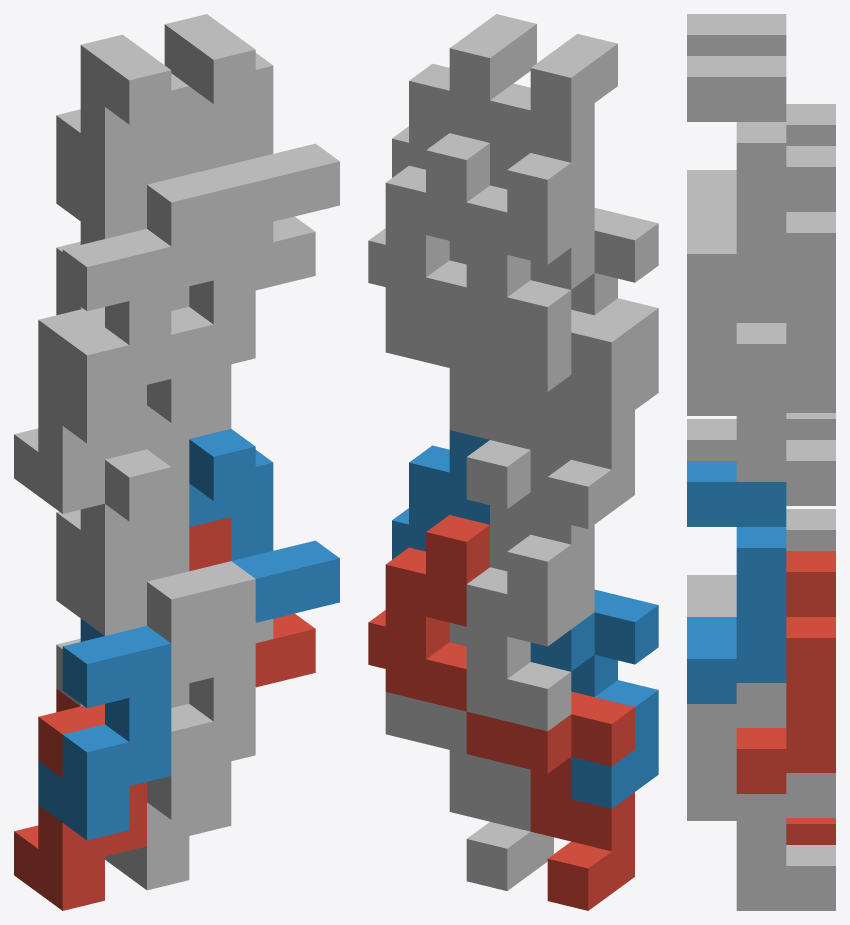
File: tiling.obj
3 renders of one model, left to right at view 1: azimuth 30°, elevation 25°; view 2: azimuth 150°, elevation 25°; view 3: azimuth 270°, elevation 25°, orthographic. The views are drawn at different scales.
Visible parts, largest first — view 1: copy_2_domain_4, copy_1_domain_4, copy_1_domain_2, copy_2_domain_2, copy_2_domain_8, copy_2_domain_6, copy_1_domain_6, copy_1_domain_8, copy_1_domain_3, copy_1_domain_1, copy_2_domain_3, copy_2_domain_1 (+4 smaller); view 2: copy_1_domain_1, copy_1_domain_3, copy_2_domain_3, copy_2_domain_1, copy_2_domain_5, copy_2_domain_7, copy_1_domain_4, copy_1_domain_2, copy_2_domain_4, copy_1_domain_5, copy_1_domain_7, copy_2_domain_8 (+4 smaller); view 3: copy_2_domain_8, copy_2_domain_6, copy_2_domain_5, copy_2_domain_7, copy_1_domain_5, copy_1_domain_7, copy_1_domain_6, copy_1_domain_8, copy_2_domain_4, copy_2_domain_2, copy_2_domain_1, copy_2_domain_3 (+2 smaller).
Boxes of the visible parts, bbox=[...] form: copy_2_domain_4: bbox=[80, 34, 255, 246]; copy_1_domain_4: bbox=[38, 222, 171, 443]; copy_1_domain_2: bbox=[38, 618, 171, 840]; copy_2_domain_2: bbox=[80, 449, 255, 643]; copy_2_domain_8: bbox=[164, 14, 339, 225]; copy_2_domain_6: bbox=[189, 429, 339, 622]; copy_1_domain_6: bbox=[147, 619, 273, 819]; copy_1_domain_8: bbox=[147, 222, 273, 422]; copy_1_domain_3: bbox=[14, 292, 146, 513]; copy_1_domain_1: bbox=[14, 689, 146, 910]; copy_2_domain_3: bbox=[56, 109, 189, 310]; copy_2_domain_1: bbox=[56, 509, 189, 707]; copy_1_domain_1: bbox=[466, 691, 634, 910]; copy_1_domain_3: bbox=[466, 309, 634, 528]; copy_2_domain_3: bbox=[466, 146, 594, 349]; copy_2_domain_1: bbox=[466, 527, 594, 731]; copy_2_domain_5: bbox=[368, 515, 489, 711]; copy_2_domain_7: bbox=[368, 133, 489, 329]; copy_1_domain_4: bbox=[530, 208, 658, 426]; copy_1_domain_2: bbox=[530, 589, 658, 808]; copy_2_domain_4: bbox=[490, 34, 617, 246]; copy_1_domain_5: bbox=[385, 692, 553, 890]; copy_1_domain_7: bbox=[385, 310, 530, 509]; copy_2_domain_8: bbox=[392, 14, 536, 177]; copy_2_domain_8: bbox=[687, 56, 786, 298]; copy_2_domain_6: bbox=[687, 461, 786, 703]; copy_2_domain_5: bbox=[736, 551, 835, 793]; copy_2_domain_7: bbox=[736, 146, 835, 388]; copy_1_domain_5: bbox=[736, 773, 835, 910]; copy_1_domain_7: bbox=[736, 368, 835, 505]; copy_1_domain_6: bbox=[687, 683, 786, 820]; copy_1_domain_8: bbox=[687, 278, 786, 415]; copy_2_domain_4: bbox=[687, 14, 786, 211]; copy_2_domain_2: bbox=[687, 419, 736, 616]; copy_2_domain_1: bbox=[786, 509, 835, 550]; copy_2_domain_3: bbox=[786, 104, 835, 145].
Bounding box in the file's own units: 6 × 19 × 3.
